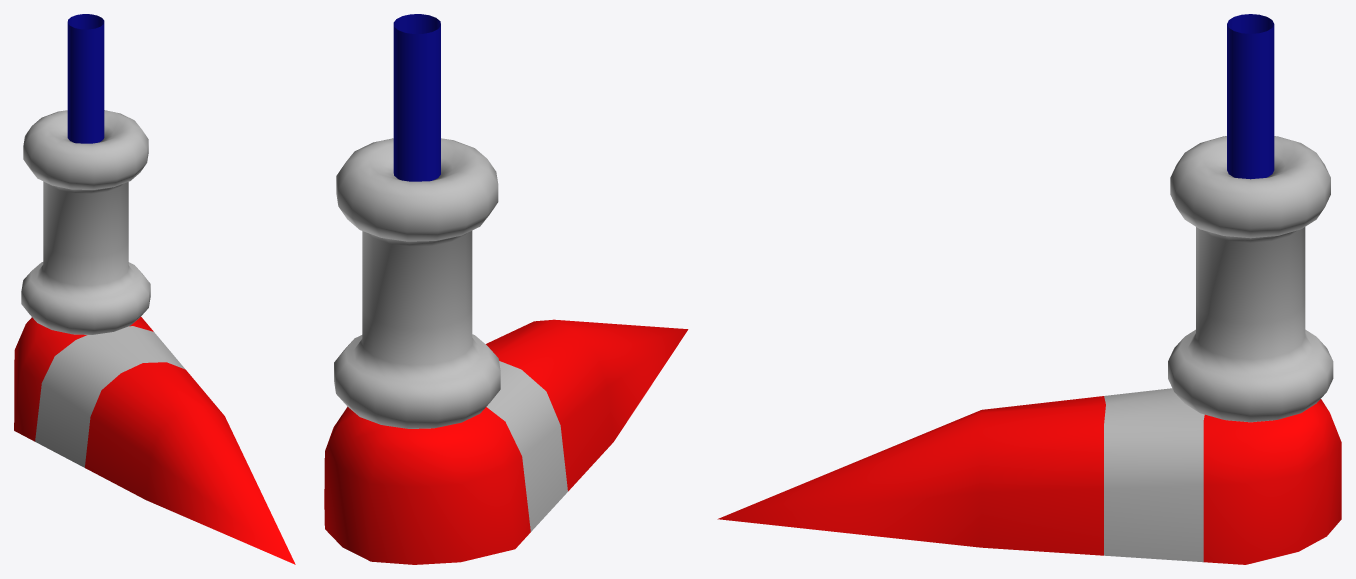
File: SonicRightLeg.obj
3 renders of one model, left to right at view 1: azimuth 30°, elevation 25°; view 2: azimuth 150°, elevation 25°; view 3: azimuth 270°, elevation 25°, orthographic. The views are drawn at different scales.
Visible parts, largest first — view 1: Polygon_2_2, Cylinder_3; view 2: Polygon_2_2, Cylinder_3; view 3: Polygon_2_2, Cylinder_3.
Part boxes in pixels (box(x1,y1,x2,y2)): Polygon_2_2: box(14, 317, 295, 564); Cylinder_3: box(21, 14, 150, 334); Polygon_2_2: box(324, 319, 688, 564); Cylinder_3: box(334, 14, 500, 428); Polygon_2_2: box(717, 388, 1341, 564); Cylinder_3: box(1168, 14, 1333, 422).
Size of the model in its own units: 0.7265 by 1.83 by 2.09.
